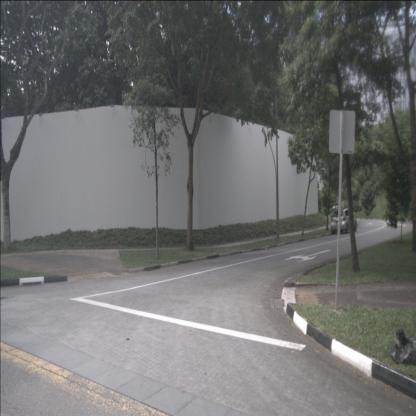vehicle-car: (331, 207, 357, 234)
